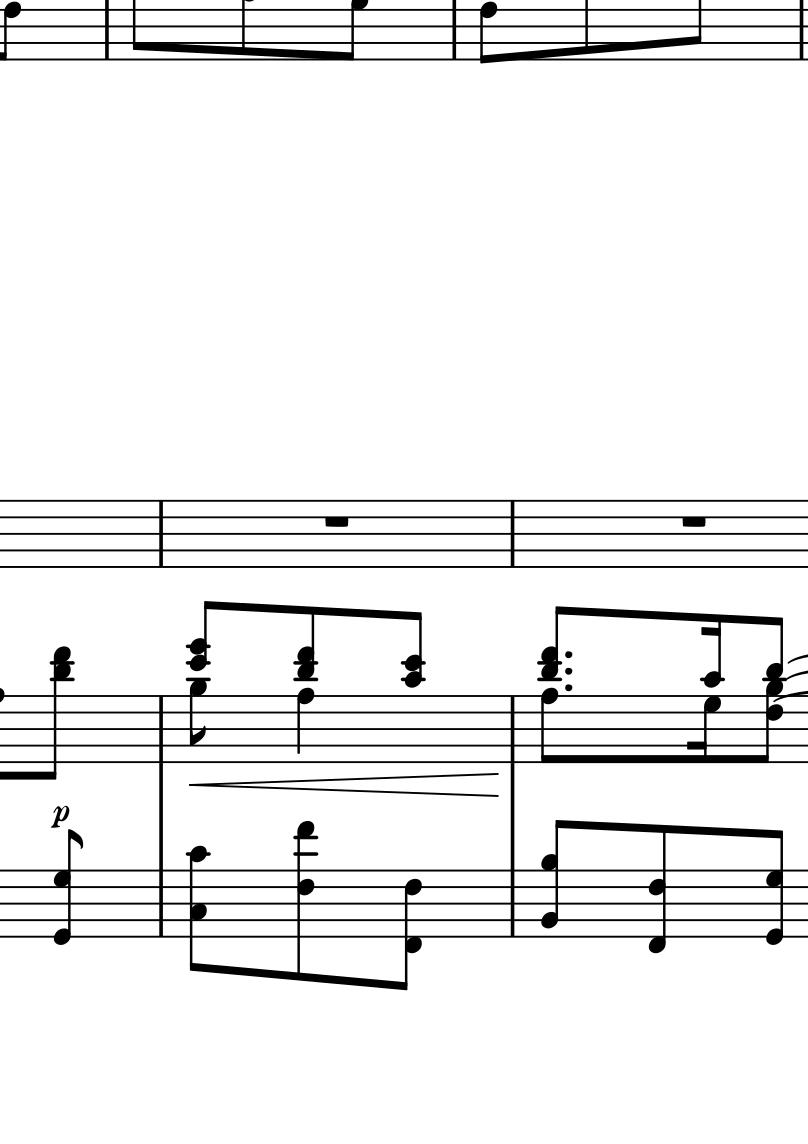16_7: (687, 693, 722, 764)
4_8: (294, 687, 317, 764)
8_-1_6: (396, 868, 424, 992), (645, 824, 670, 956)
8_-2_9: (540, 819, 572, 939)
8_0_7: (53, 829, 85, 946), (764, 829, 787, 946)
8_10_12: (401, 611, 425, 763)
8_3_10: (185, 845, 210, 974)
8_6_13: (295, 818, 319, 986)
8_8: (535, 688, 572, 770)
8_9: (189, 680, 210, 764)
Crescendo_hairpin: (186, 769, 499, 799)
Rests1: (677, 512, 711, 531), (320, 513, 354, 530)
Single_barline: (152, 870, 173, 937), (503, 870, 524, 937), (504, 696, 524, 762), (152, 696, 171, 763), (504, 500, 522, 567), (445, 1, 465, 60), (153, 500, 170, 567), (98, 1, 117, 60), (792, 1, 808, 61)
dot: (562, 681, 577, 696), (562, 647, 575, 662), (562, 664, 576, 677)
p: (47, 801, 71, 829)
